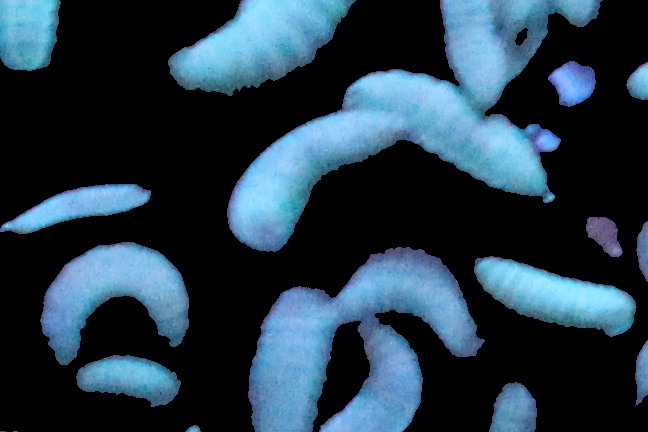larvae: (344, 69, 552, 204), (226, 109, 407, 249), (167, 1, 360, 97), (42, 242, 190, 359), (326, 249, 484, 355), (478, 254, 637, 336), (247, 287, 332, 432), (329, 321, 423, 432), (441, 1, 537, 103), (75, 350, 181, 408), (1, 1, 57, 73)
